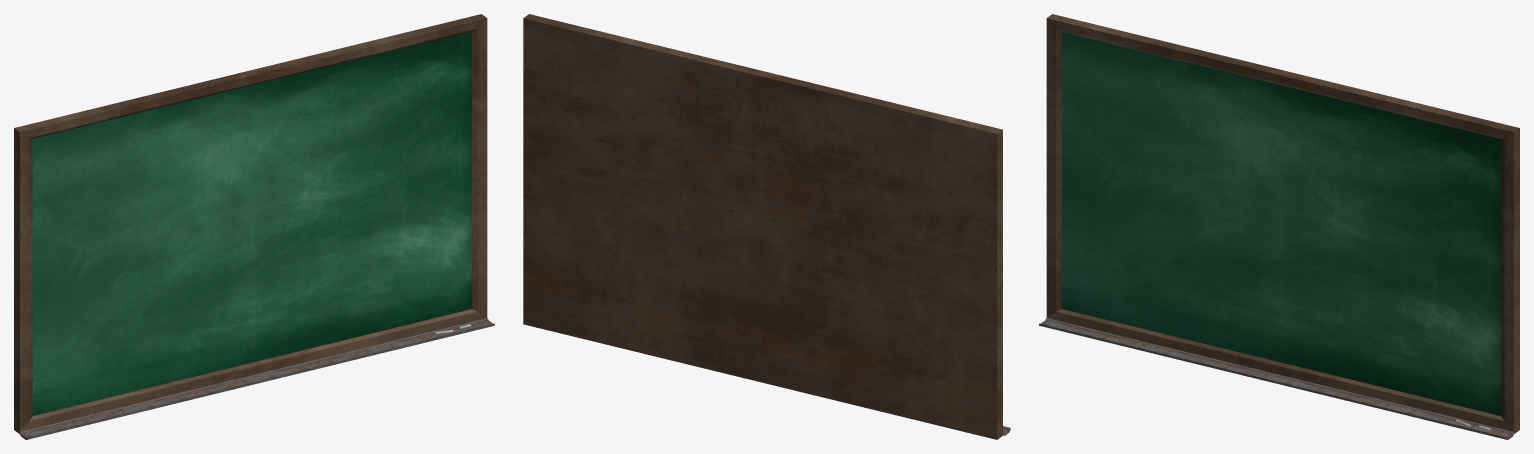
The model's file is GreenChalkBoard.fbx.
3 renders of one model, left to right at view 1: azimuth 30°, elevation 25°; view 2: azimuth 150°, elevation 25°; view 3: azimuth 330°, elevation 25°, orthographic.
Parts seen in each view (by area): view 1: Cube; view 2: Cube; view 3: Cube.
Part boxes in pixels (<box>): Cube: <box>14,14,494,439</box>; Cube: <box>523,14,1010,439</box>; Cube: <box>1039,14,1519,439</box>.
Size of the model in its own units: 5.52 by 3.42 by 0.273.
1 material, 1 textured.
